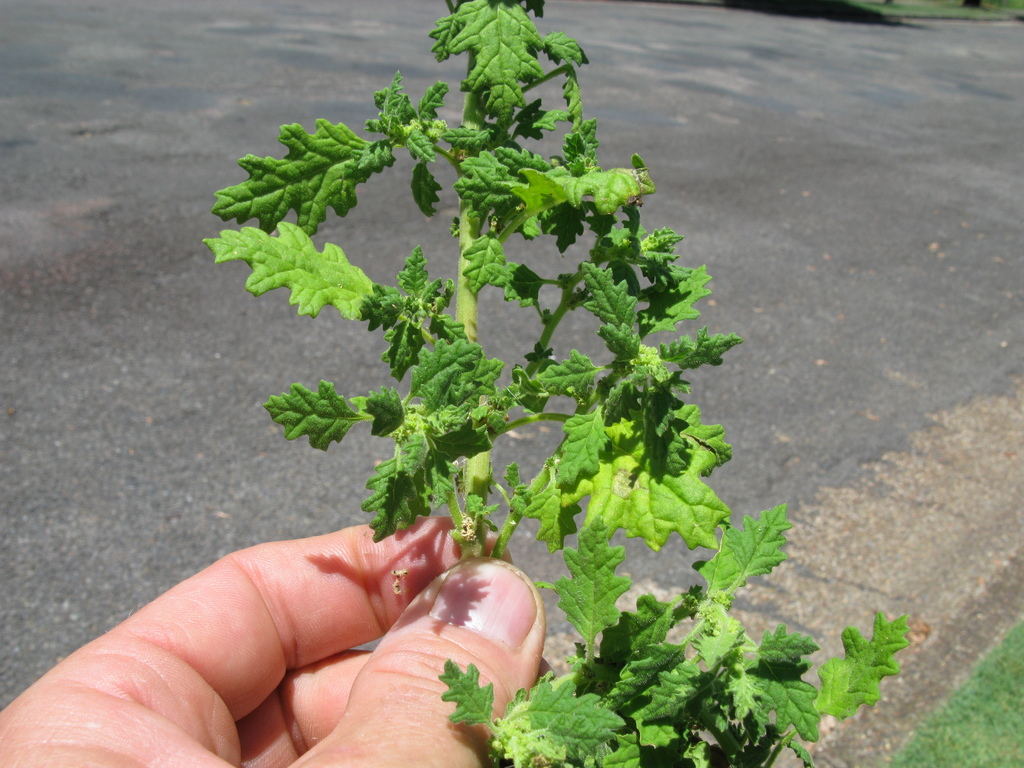Human_hand: (0, 514, 560, 768)
